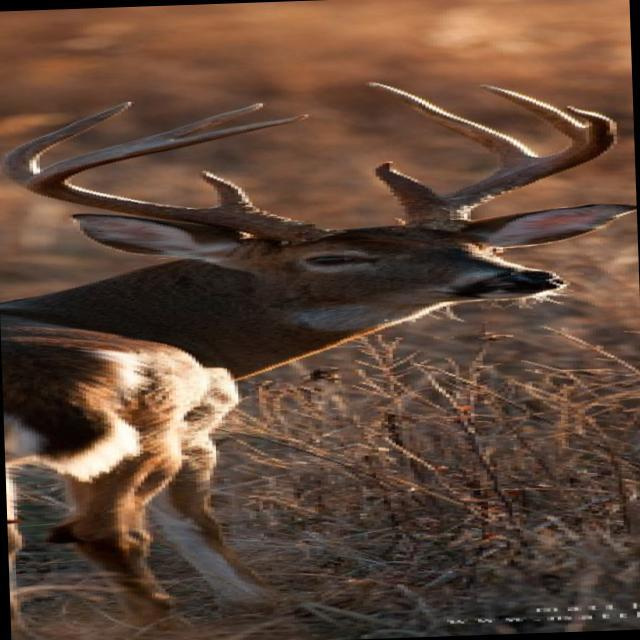L-F: (404, 105, 619, 232)
L-G1: (374, 161, 442, 206)
L-G2: (367, 81, 542, 170)
L-G3: (477, 84, 585, 140)
R-F: (18, 113, 344, 244)
R-G1: (198, 170, 260, 210)
R-G2: (2, 101, 134, 185)
R-G3: (148, 102, 265, 140)
